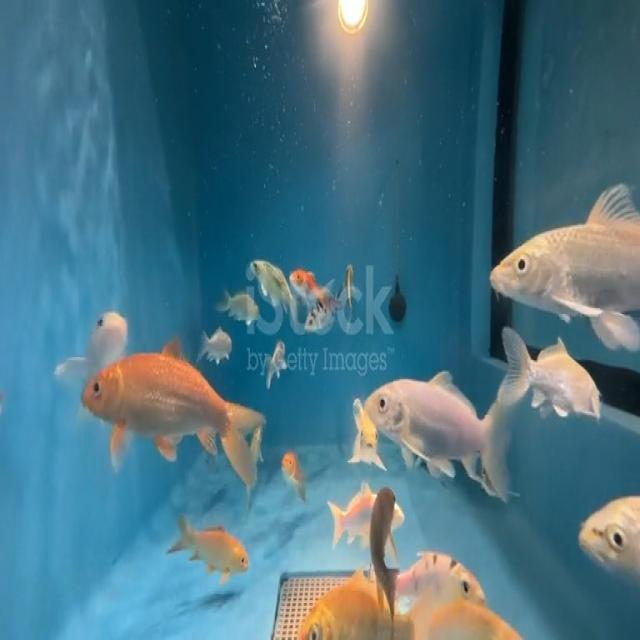fish: (76, 333, 270, 476), (491, 173, 640, 335), (367, 365, 510, 474), (483, 322, 614, 426), (566, 465, 640, 591), (392, 536, 489, 608), (370, 473, 410, 610), (296, 573, 371, 640), (171, 514, 248, 576), (329, 488, 408, 547), (71, 290, 132, 362), (288, 260, 339, 322), (246, 247, 287, 314), (217, 276, 257, 332), (352, 395, 382, 469), (267, 342, 301, 400), (201, 322, 239, 361), (282, 441, 302, 501)
